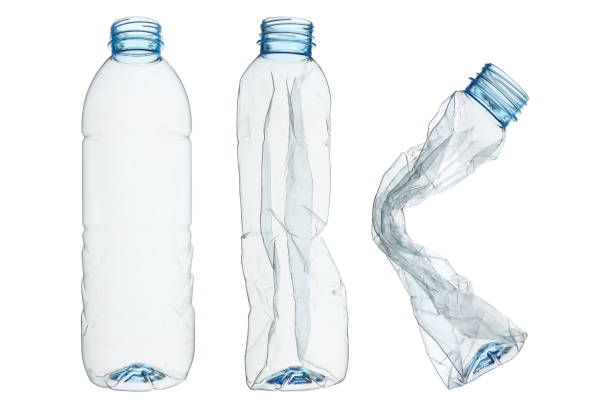plastic_bottle: (374, 60, 529, 390), (81, 17, 197, 392), (236, 17, 349, 391)
